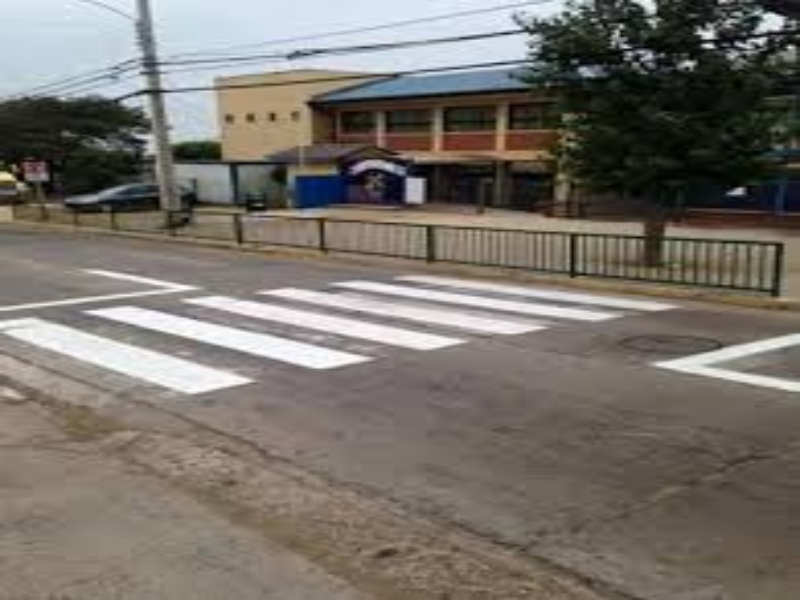zebra cross: (1, 269, 682, 395)
